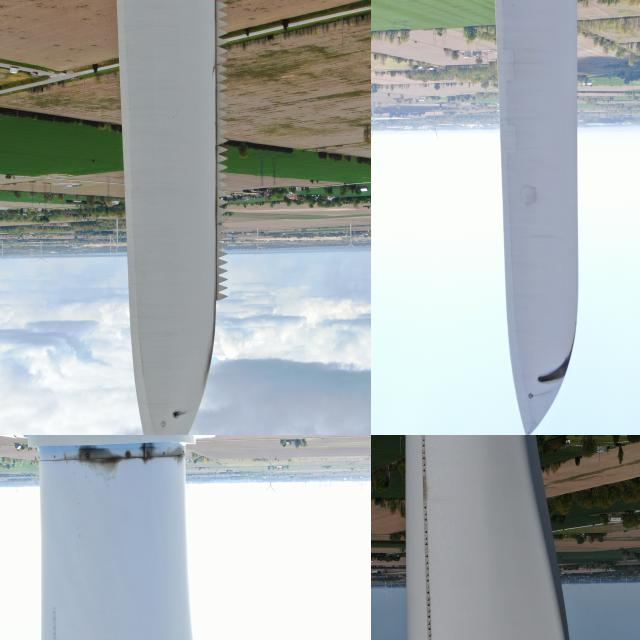damage: (73, 435, 129, 498), (136, 435, 189, 482), (536, 350, 576, 390), (421, 474, 428, 503), (172, 408, 181, 422)
